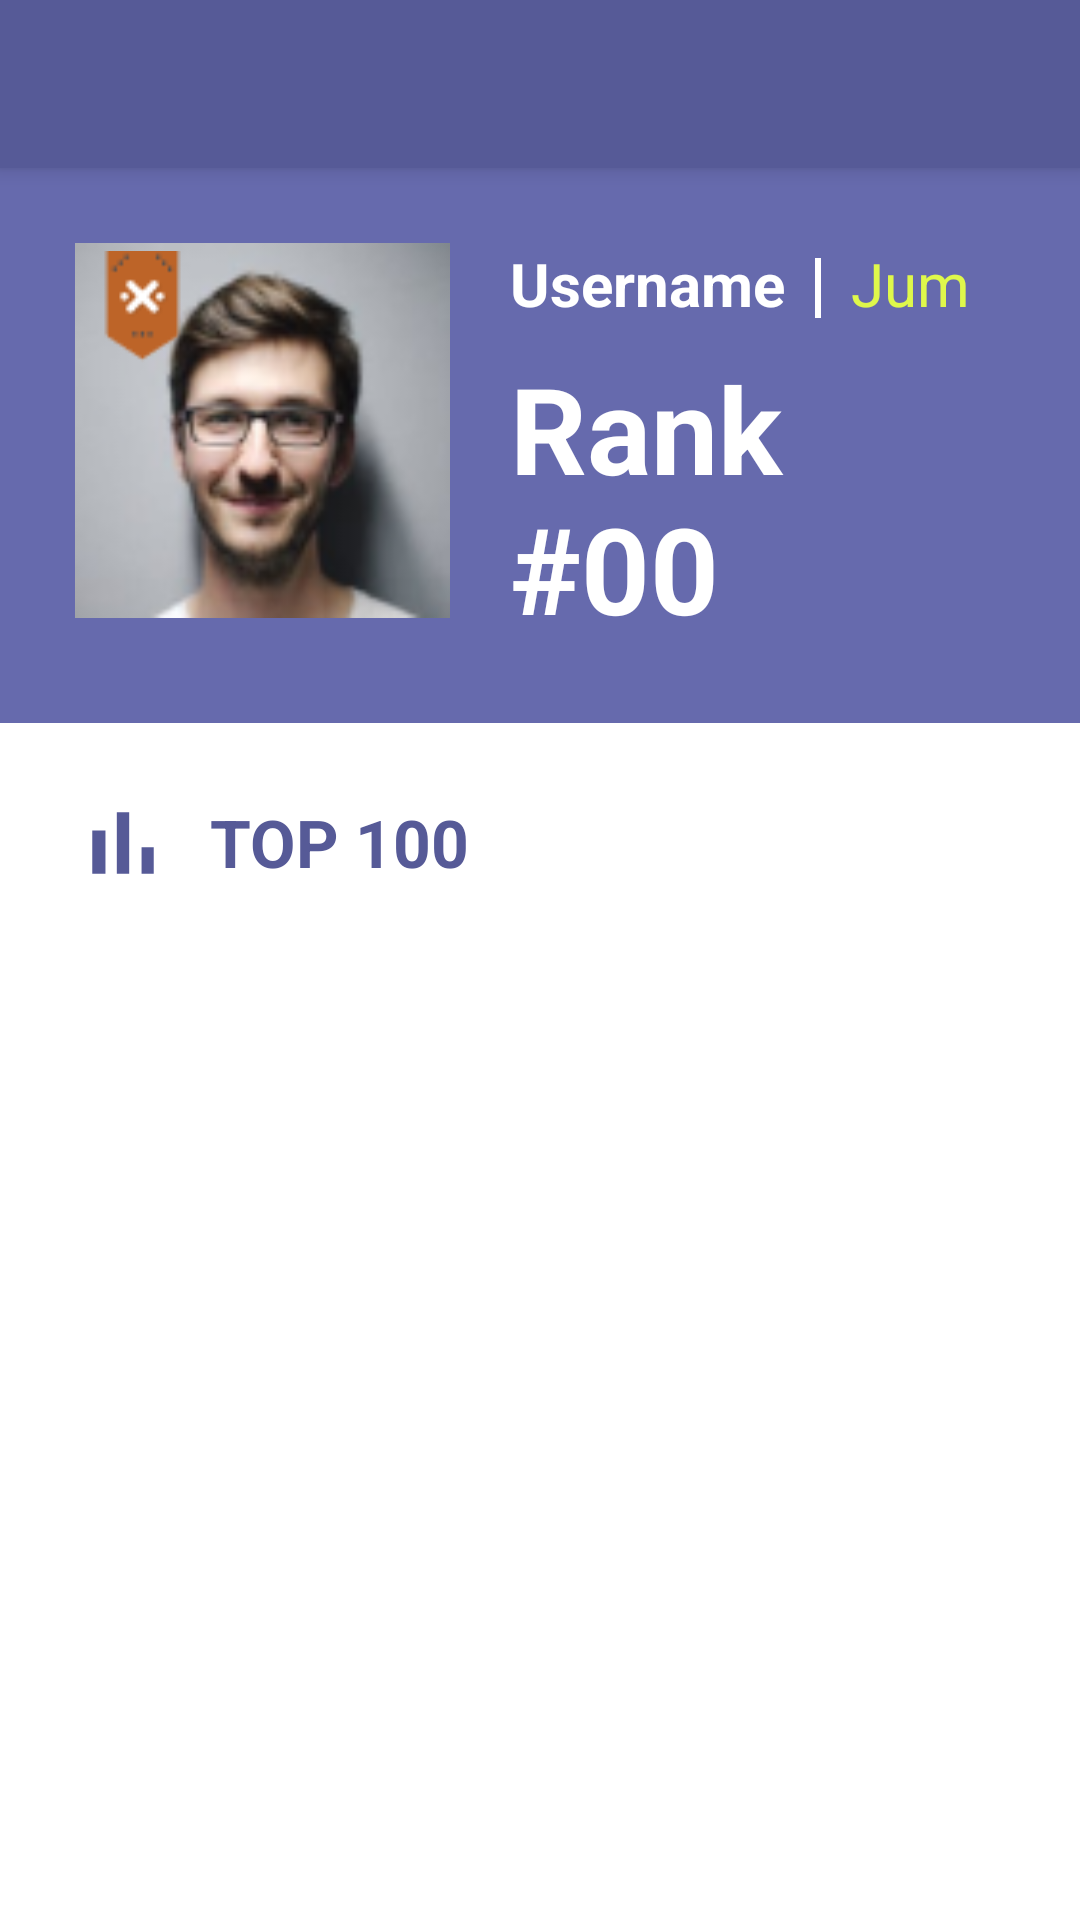

Screen size 1080w x 1920h. Icon name, then its center in pixels as [x,y]:
rank: [123,843]
